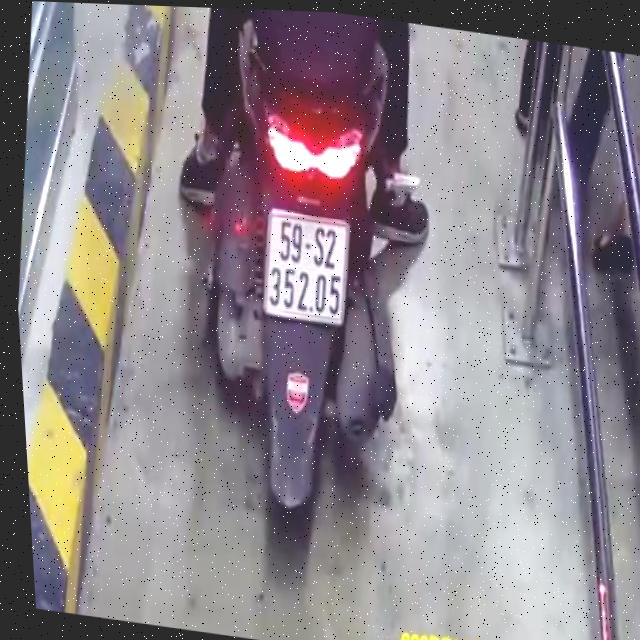motorcycle: (148, 5, 459, 550)
plate: (252, 203, 356, 328)
